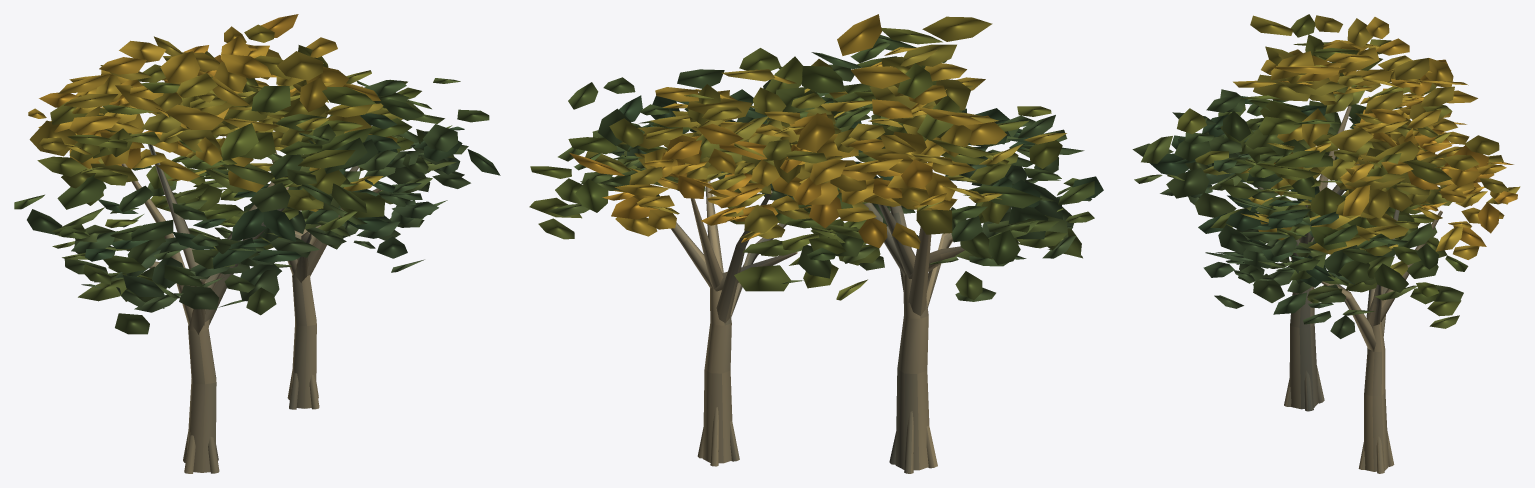
File: ART_CastleGrove.lod.glb
The picture shows the model from 3 angles, left to right: view 1: azimuth 30°, elevation 25°; view 2: azimuth 150°, elevation 25°; view 3: azimuth 270°, elevation 25°; orthographic projection. The views are drawn at different scales.
Visible parts, largest first — view 1: ART_CastleGrove; view 2: ART_CastleGrove; view 3: ART_CastleGrove.
Part boxes in pixels (bbox=[...]): ART_CastleGrove: bbox=[14, 14, 500, 473]; ART_CastleGrove: bbox=[529, 14, 1103, 473]; ART_CastleGrove: bbox=[1132, 14, 1520, 473].
Bounding box in the file's own units: 16.24 × 14.06 × 13.44.
